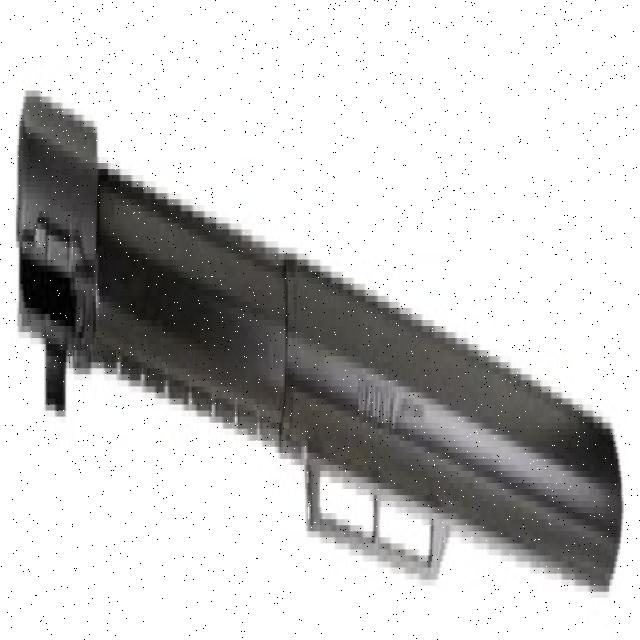bazooka: (11, 68, 628, 607)
